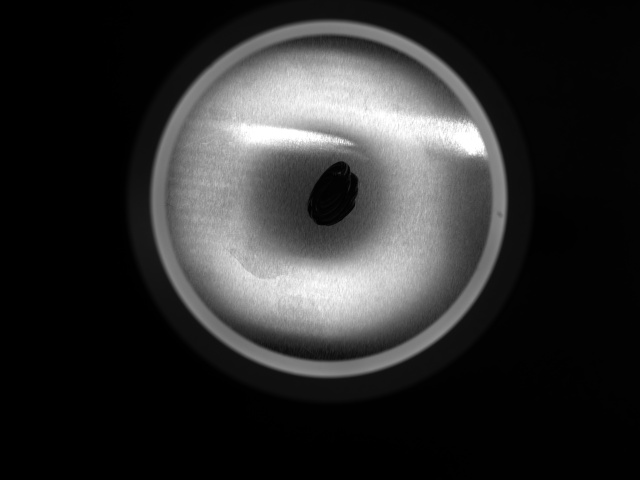zang_wu: (304, 159, 358, 229)
